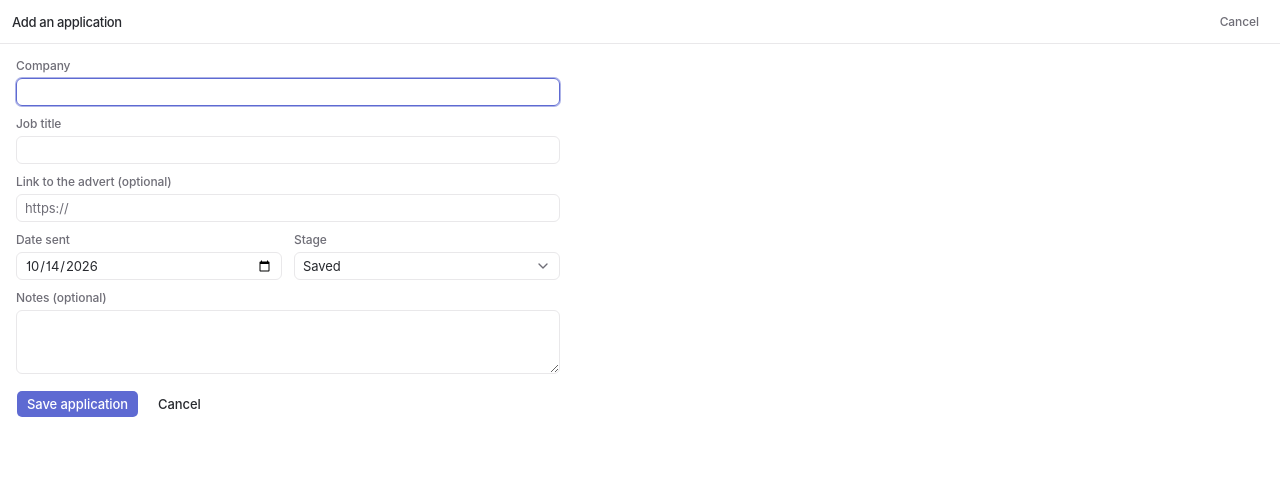
Test: NewApplicationPage › shows an error under required fields when submitted empty
Step 1. Click the button "Save application" → (78, 404), box [16,390,139,418]
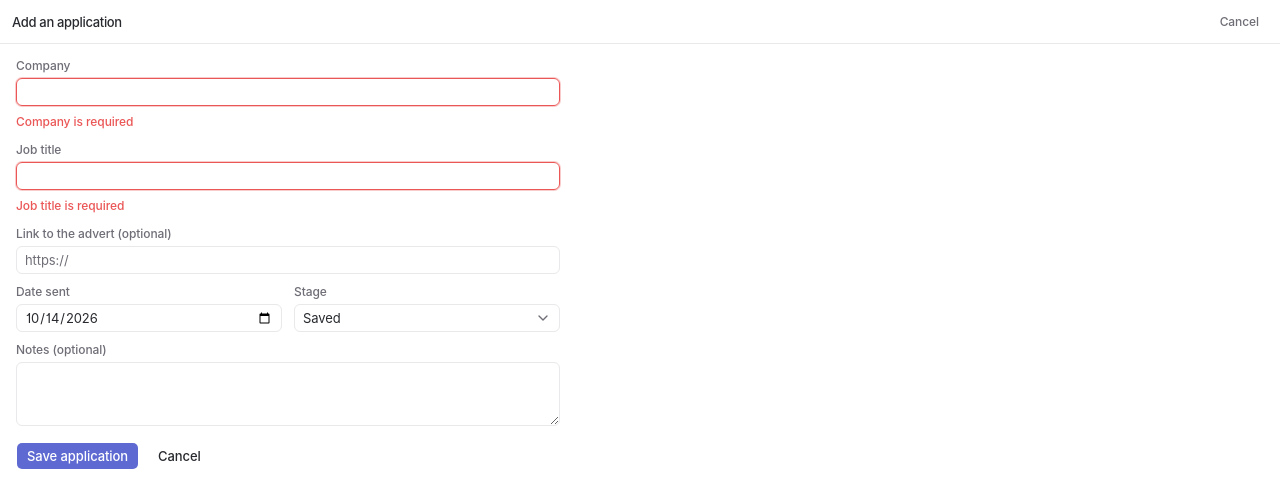
Result: the messages read "Company is required", "Job title is required", in this order at [16,114,133,129]; [16,198,124,213]
